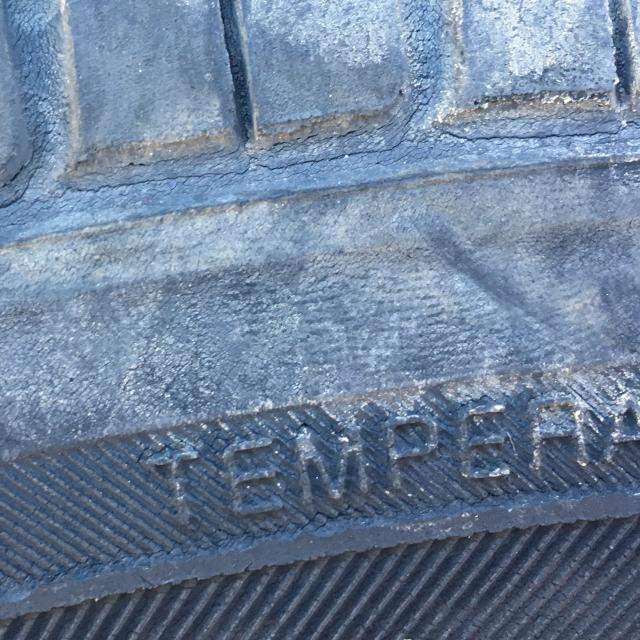Cracks: (0, 2, 637, 622)
